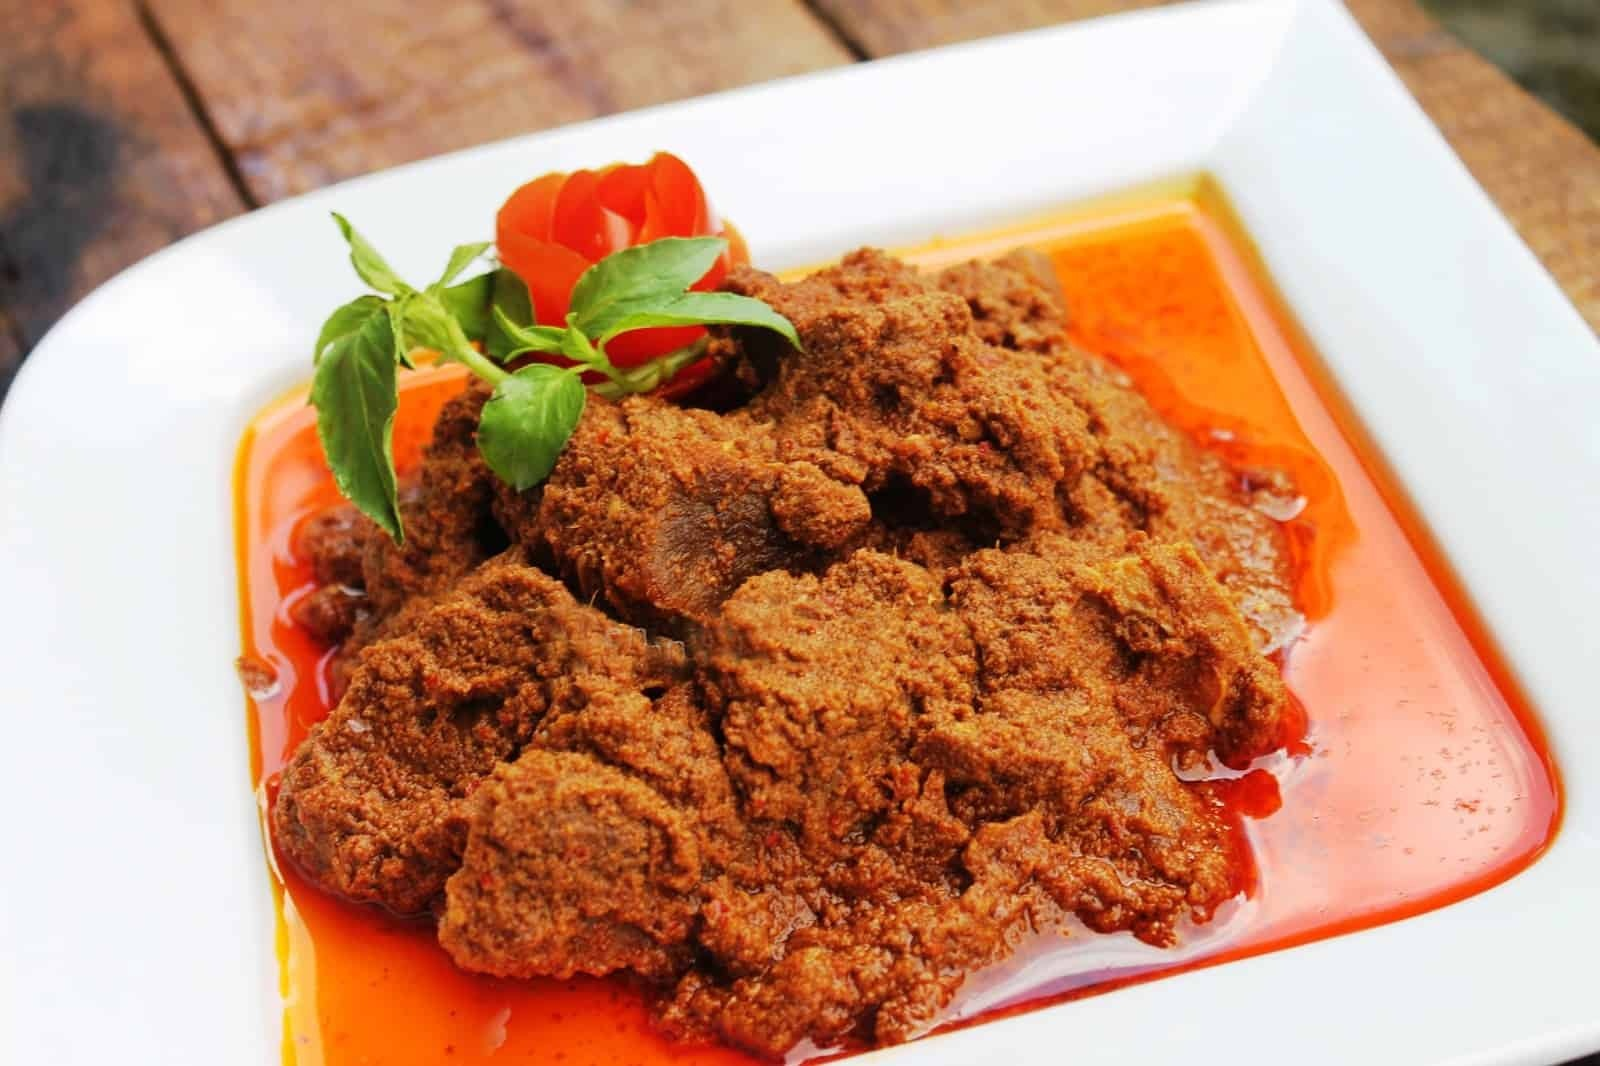Rendang: (287, 224, 1293, 1058)
